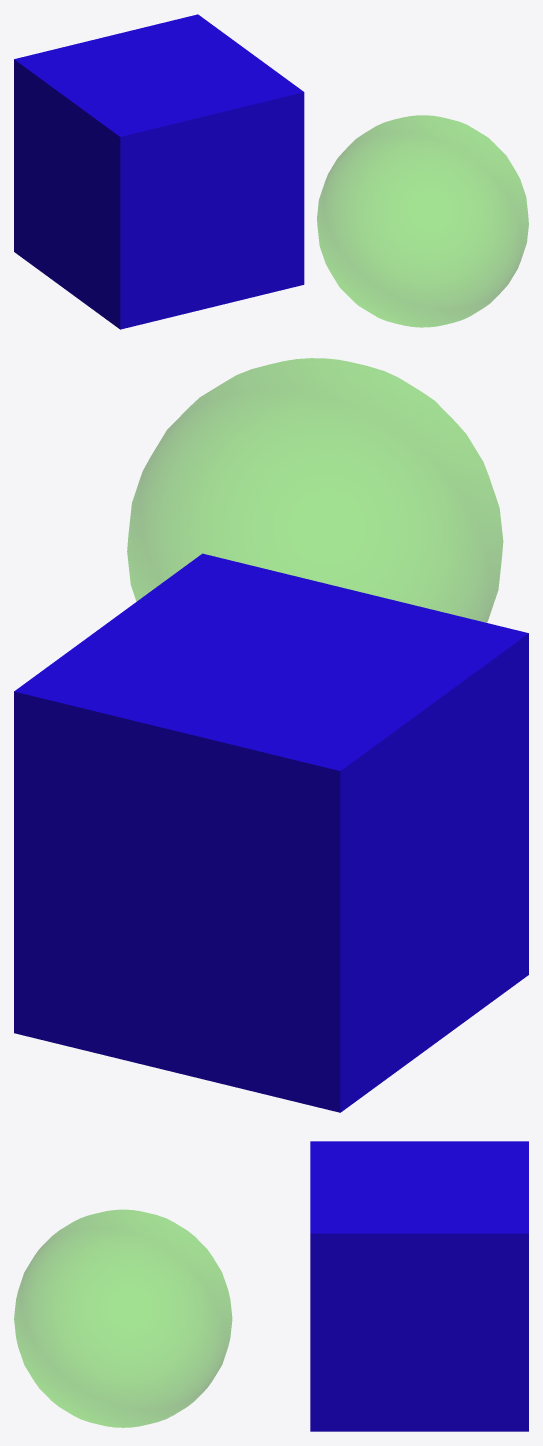
File: translucent.glb
3 renders of one model, top to bottom at view 1: azimuth 30°, elevation 25°; view 2: azimuth 150°, elevation 25°; view 3: azimuth 270°, elevation 25°, orthographic. The views are drawn at different scales.
Visible parts, largest first — view 1: Cube, Sphere; view 2: Cube, Sphere; view 3: Cube, Sphere.
Boxes of the visible parts, <box> form: Cube: <box>14,14,304,329</box>; Sphere: <box>317,115,528,327</box>; Cube: <box>14,553,528,1112</box>; Sphere: <box>127,358,502,622</box>; Cube: <box>310,1141,528,1431</box>; Sphere: <box>14,1210,231,1427</box>.
Bounding box in the file's own units: 1.65 × 1.14 × 2.36.
